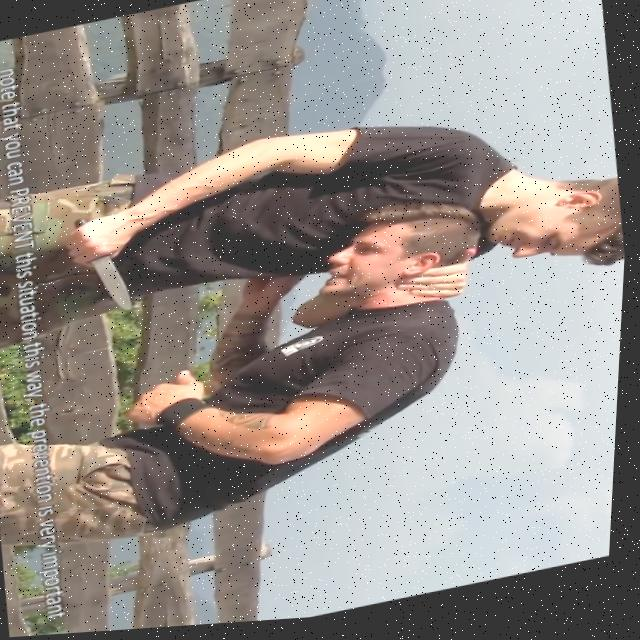knife: (84, 252, 139, 321)
